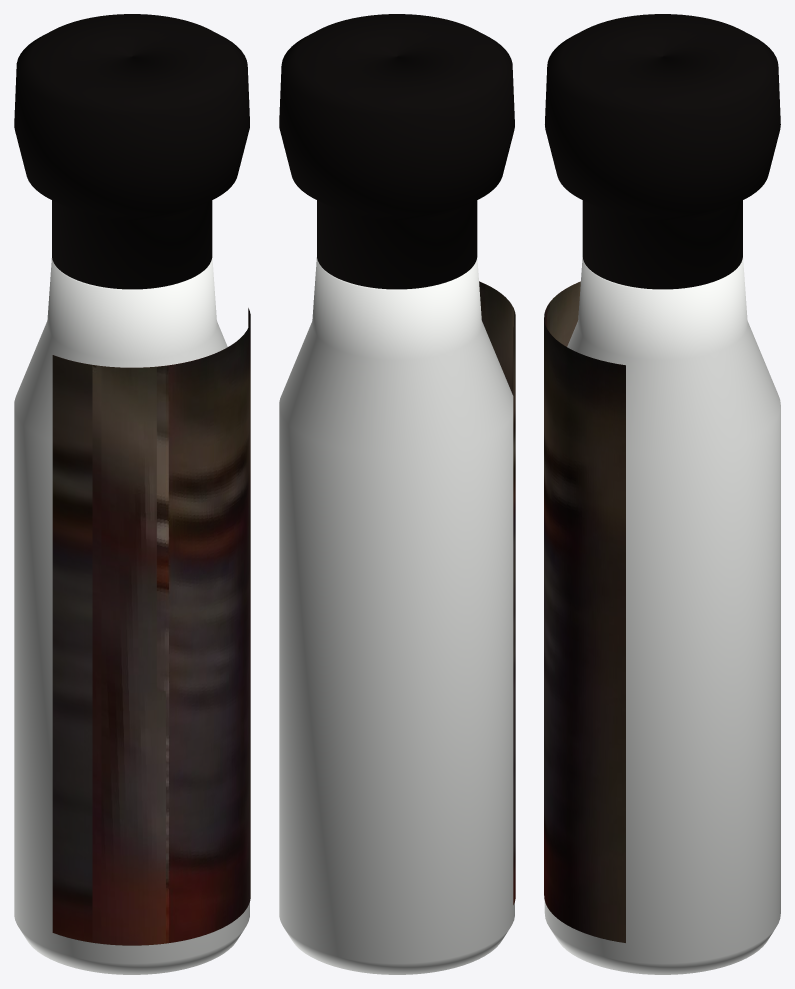
3 views of the same model, side by side, from view 1: azimuth 30°, elevation 25°; view 2: azimuth 150°, elevation 25°; view 3: azimuth 270°, elevation 25° (orthographic).
Visible parts, largest first — view 1: dark_pantry_canister__body, dark_pantry_canister__cap; view 2: dark_pantry_canister__body, dark_pantry_canister__cap; view 3: dark_pantry_canister__body, dark_pantry_canister__cap.
Boxes of the visible parts, box(x1,y1,x2,y2) form: dark_pantry_canister__body: box(14, 258, 250, 974); dark_pantry_canister__cap: box(14, 14, 249, 289); dark_pantry_canister__body: box(279, 257, 515, 974); dark_pantry_canister__cap: box(279, 14, 514, 289); dark_pantry_canister__body: box(544, 258, 780, 974); dark_pantry_canister__cap: box(545, 14, 780, 289).
Size of the model in its own units: 0.0391 by 0.1596 by 0.0392.
Materials: 4 (1 with a texture image).
